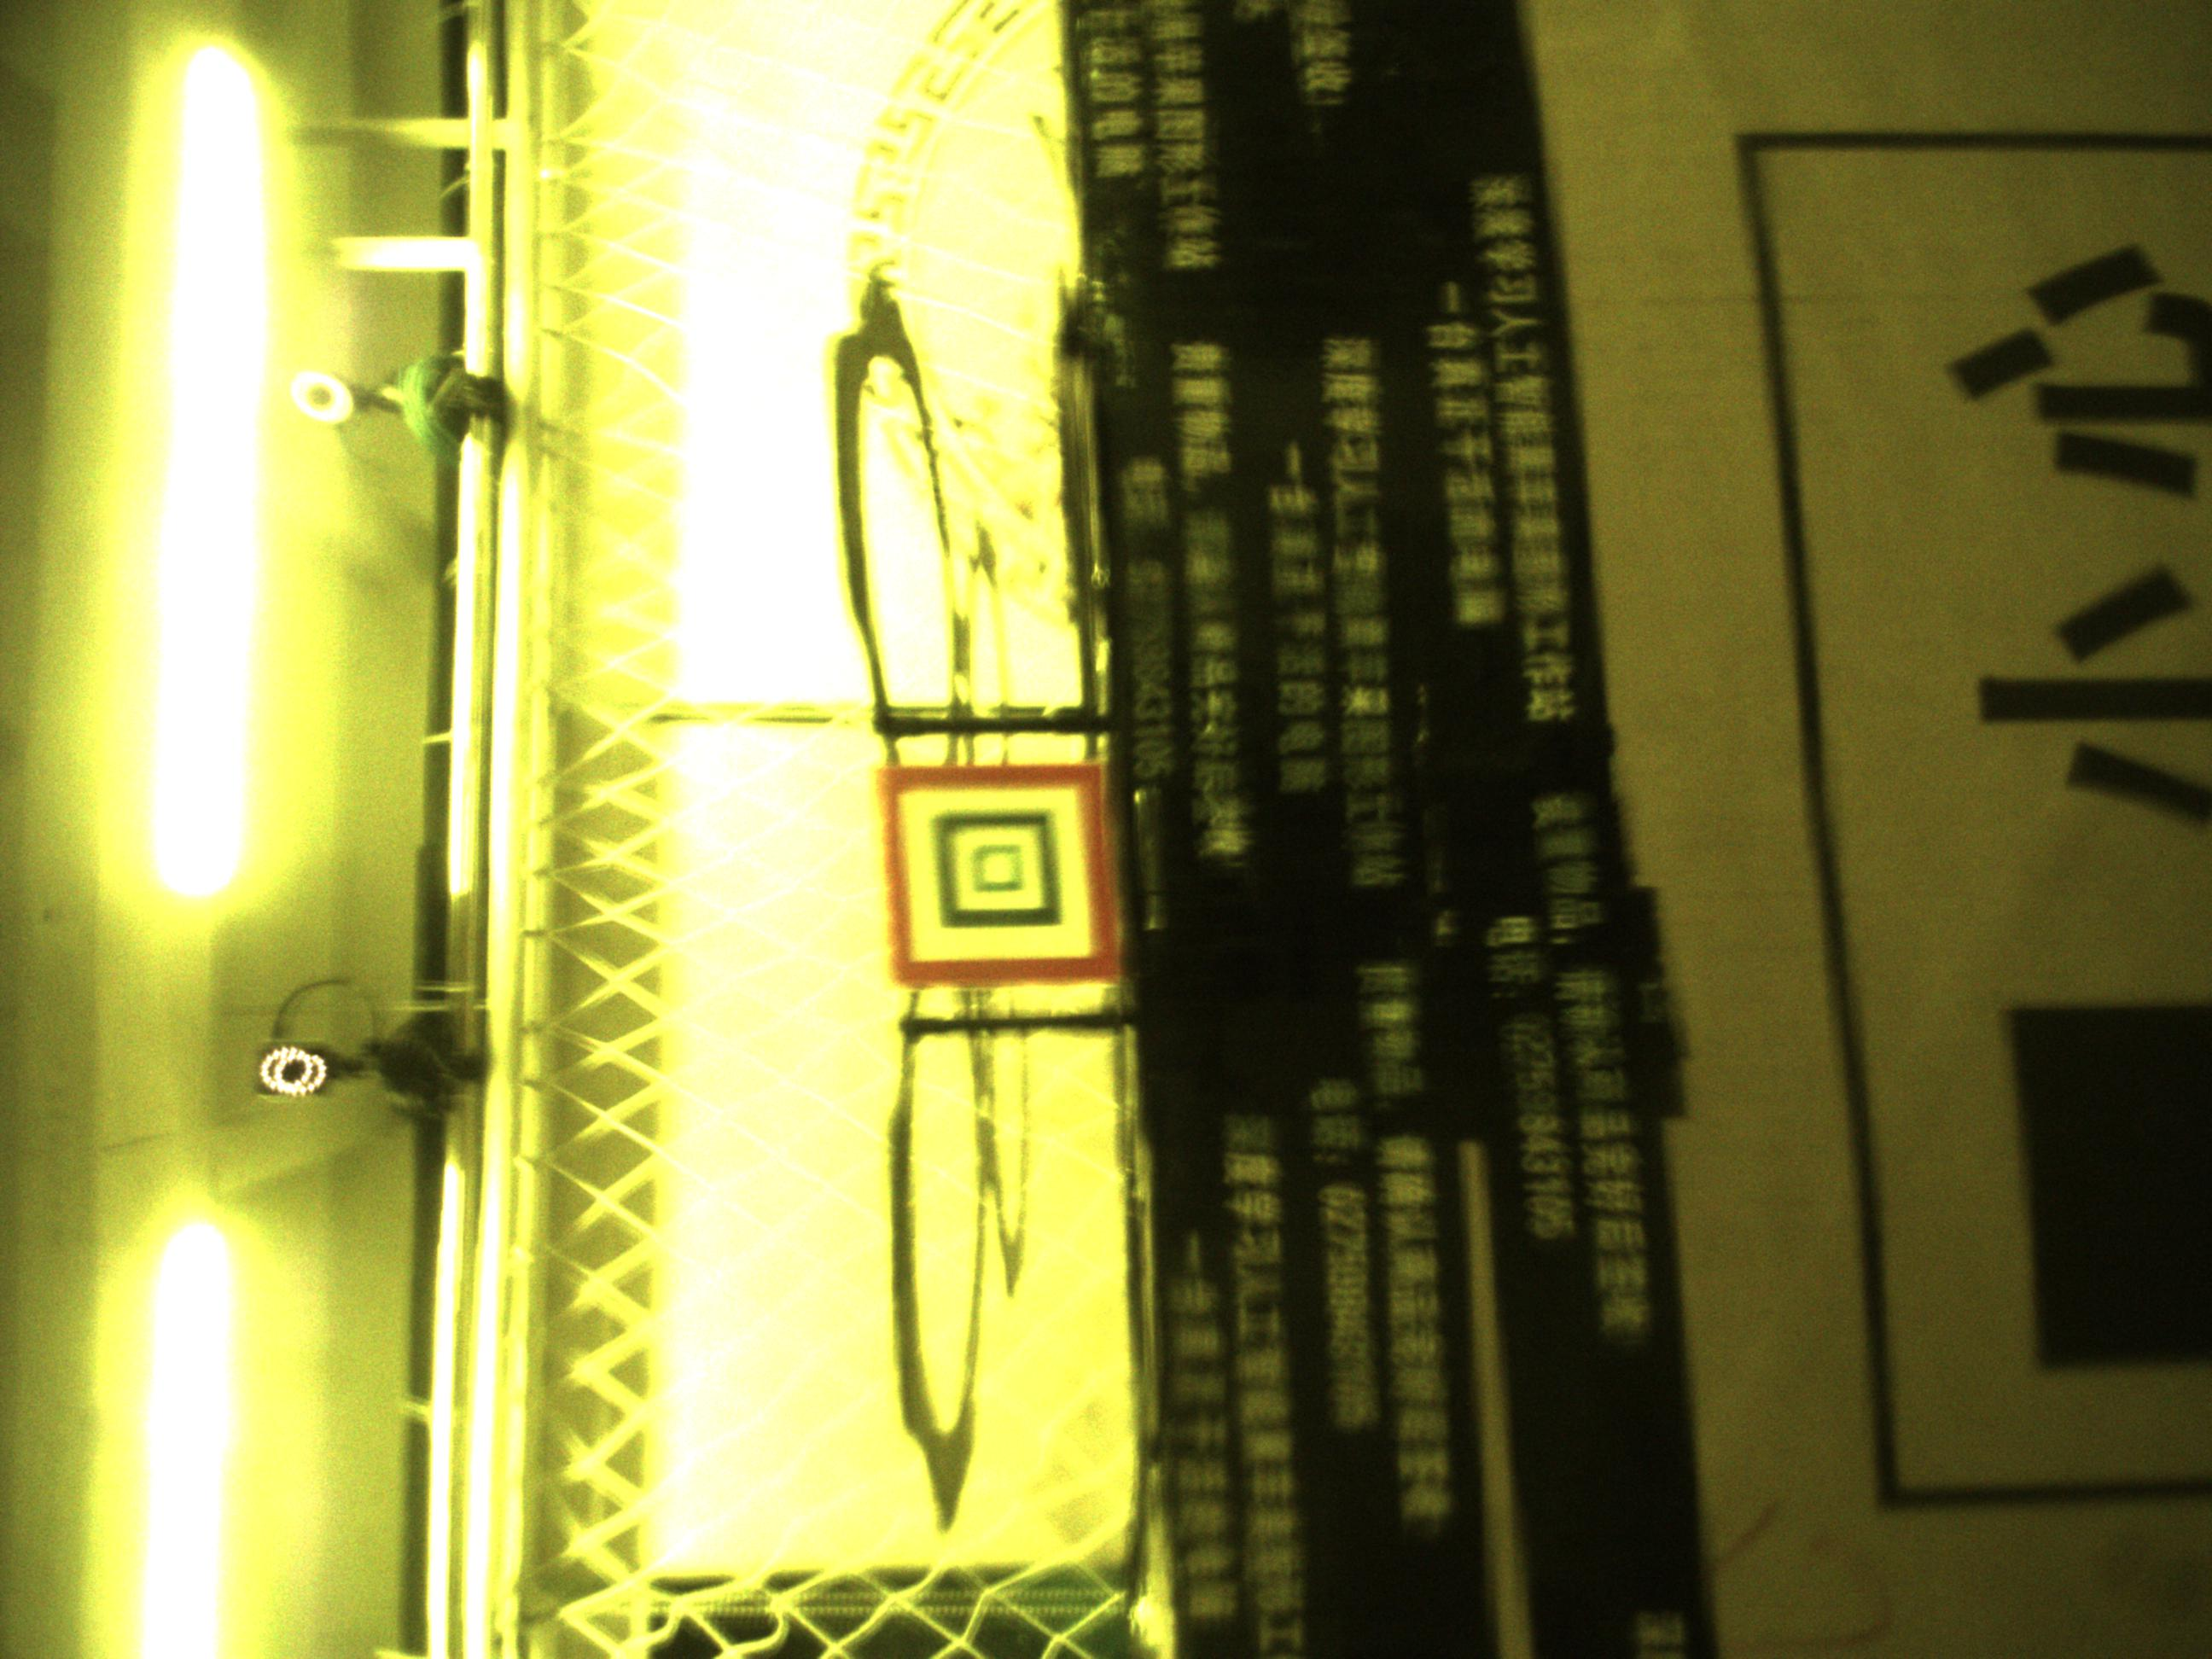outline: (878, 765, 1123, 985)
